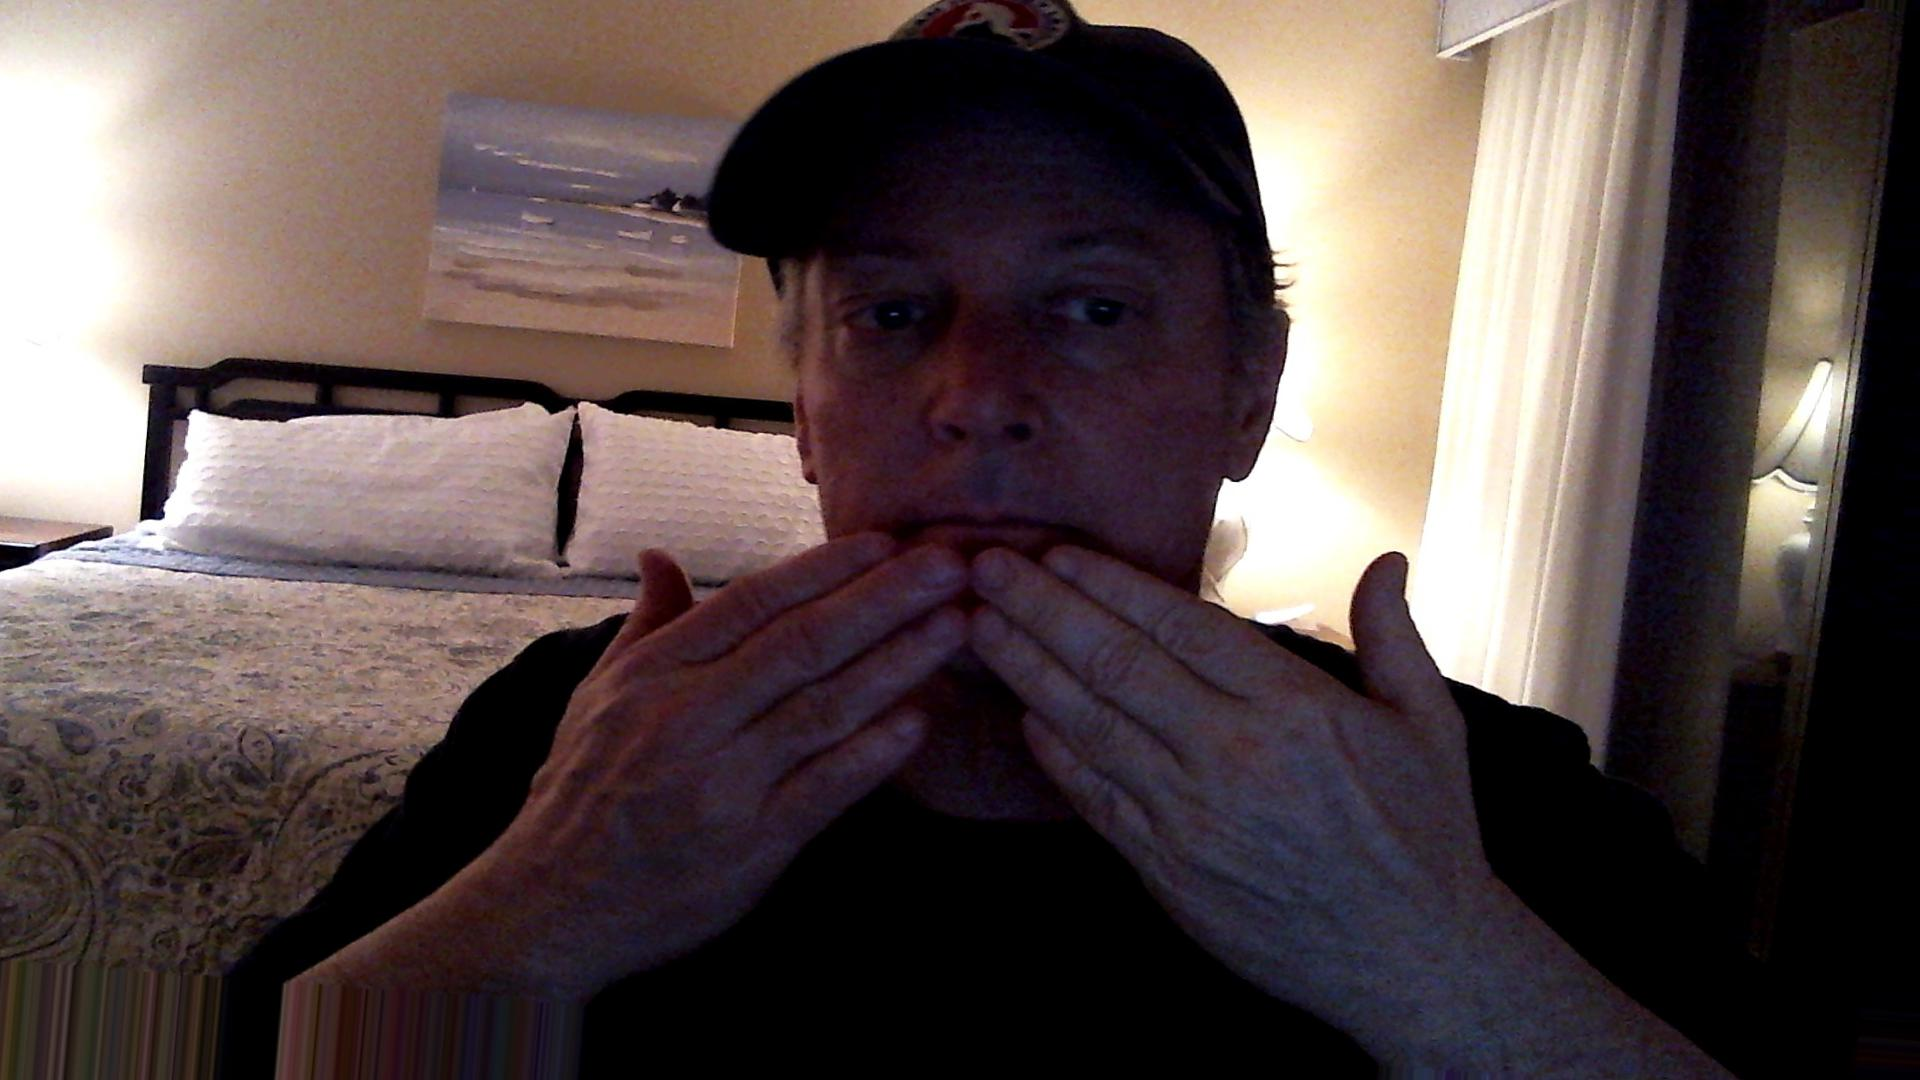Thank You: (559, 498, 1520, 980)
